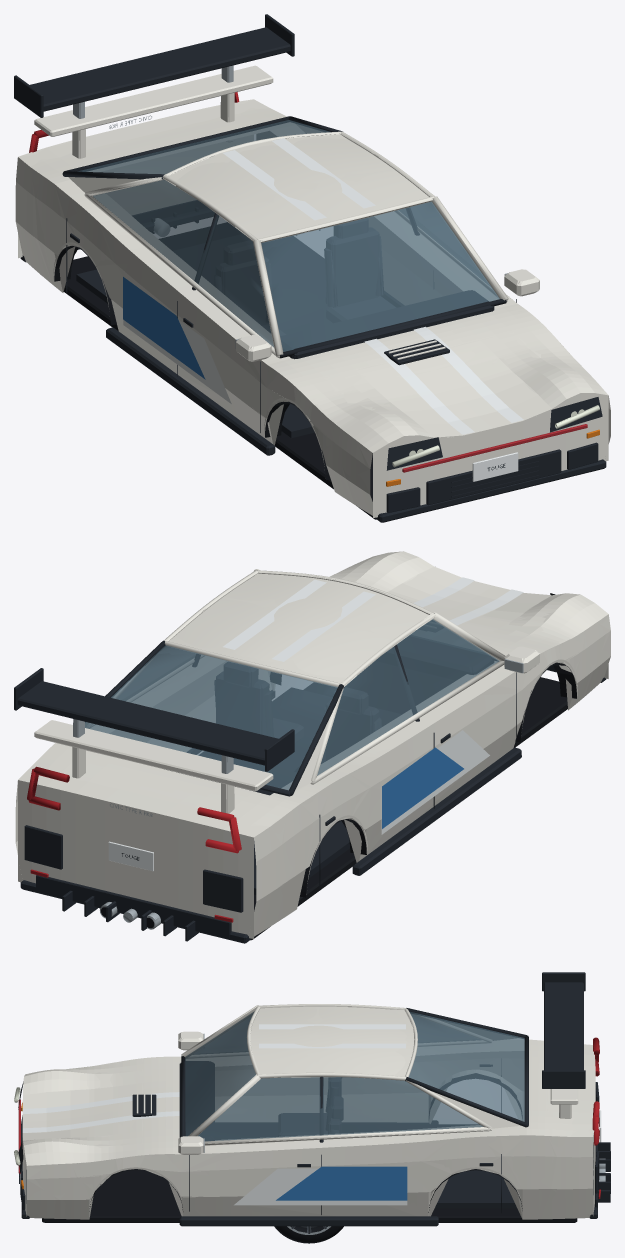
The model's file is civic.glb.
3 views of the same model, one above another, from view 1: azimuth 30°, elevation 25°; view 2: azimuth 150°, elevation 25°; view 3: azimuth 270°, elevation 25° (orthographic). The views are drawn at different scales.
Visible parts, largest first — view 1: LOD0_body, LOD0_cabin, LOD0_glass, LOD1_glass, LOD1_body, LOD0_hood, LOD1_hood, LOD1_cabin, LOD1_spoiler_gt, LOD0_vinyl_apex, LOD0_spoiler_gt, LOD1_spoiler_stock (+3 smaller); view 2: LOD0_body, LOD0_cabin, LOD0_glass, LOD1_glass, LOD1_body, LOD1_spoiler_gt, LOD1_hood, LOD0_hood, LOD0_vinyl_apex, LOD1_cabin, LOD0_spoiler_gt, LOD1_spoiler_stock (+3 smaller); view 3: LOD0_body, LOD1_body, LOD0_glass, LOD1_glass, LOD0_cabin, LOD0_hood, LOD0_vinyl_apex, LOD1_cabin, LOD1_hood, LOD1_spoiler_gt, LOD0_vinyl_twin, LOD0_spoiler_gt (+4 smaller).
Part boxes in pixels (left/top/right/bottom): LOD0_body: left=15, top=92, right=610, bottom=522; LOD0_cabin: left=62, top=116, right=508, bottom=437; LOD0_glass: left=78, top=120, right=499, bottom=351; LOD1_glass: left=79, top=120, right=499, bottom=351; LOD1_body: left=16, top=92, right=610, bottom=522; LOD0_hood: left=283, top=307, right=594, bottom=443; LOD1_hood: left=325, top=328, right=567, bottom=437; LOD1_cabin: left=63, top=118, right=506, bottom=437; LOD1_spoiler_gt: left=14, top=27, right=294, bottom=118; LOD0_vinyl_apex: left=123, top=277, right=231, bottom=403; LOD0_spoiler_gt: left=14, top=14, right=294, bottom=118; LOD1_spoiler_stock: left=34, top=65, right=273, bottom=158; LOD0_body: left=16, top=553, right=610, bottom=943; LOD0_cabin: left=85, top=569, right=505, bottom=894; LOD0_glass: left=85, top=619, right=499, bottom=789; LOD1_glass: left=85, top=619, right=498, bottom=789; LOD1_body: left=15, top=556, right=610, bottom=943; LOD1_spoiler_gt: left=14, top=668, right=278, bottom=773; LOD1_hood: left=355, top=556, right=554, bottom=644; LOD0_hood: left=341, top=551, right=594, bottom=663; LOD0_vinyl_apex: left=381, top=730, right=489, bottom=834; LOD1_cabin: left=86, top=569, right=504, bottom=893; LOD0_spoiler_gt: left=14, top=668, right=294, bottom=773; LOD1_spoiler_stock: left=34, top=720, right=272, bottom=813; LOD0_body: left=14, top=1031, right=610, bottom=1226; LOD1_body: left=14, top=1032, right=605, bottom=1225; LOD0_glass: left=185, top=1011, right=524, bottom=1140; LOD1_glass: left=185, top=1012, right=524, bottom=1141; LOD0_cabin: left=179, top=1004, right=528, bottom=1208; LOD0_hood: left=22, top=1062, right=180, bottom=1154; LOD0_vinyl_apex: left=234, top=1166, right=407, bottom=1205; LOD1_cabin: left=184, top=1005, right=528, bottom=1208; LOD1_hood: left=22, top=1070, right=166, bottom=1145; LOD1_spoiler_gt: left=542, top=973, right=585, bottom=1070; LOD0_vinyl_twin: left=25, top=1024, right=405, bottom=1132; LOD0_spoiler_gt: left=542, top=972, right=585, bottom=1088.
Size of the model in its own units: 2.14 by 1.9 by 4.75.
